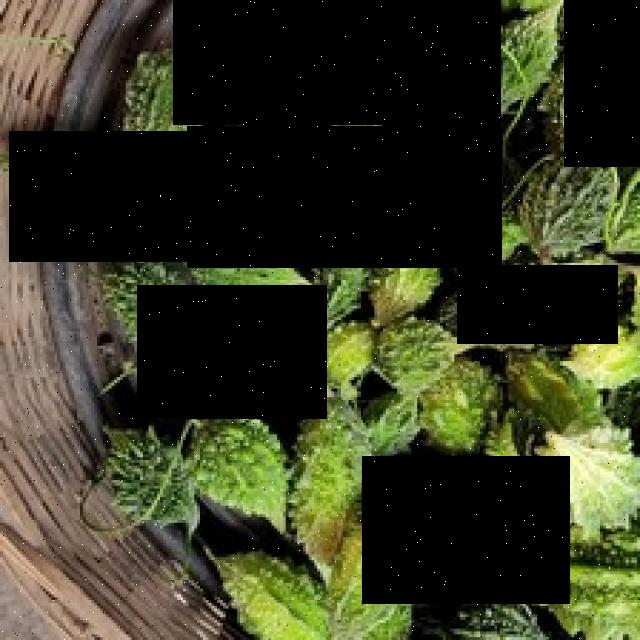Bitter_Gourd: (188, 126, 502, 268), (362, 456, 570, 604), (174, 0, 401, 125), (10, 132, 217, 263), (138, 285, 328, 419), (382, 0, 502, 133), (564, 0, 640, 167), (458, 265, 618, 344)
